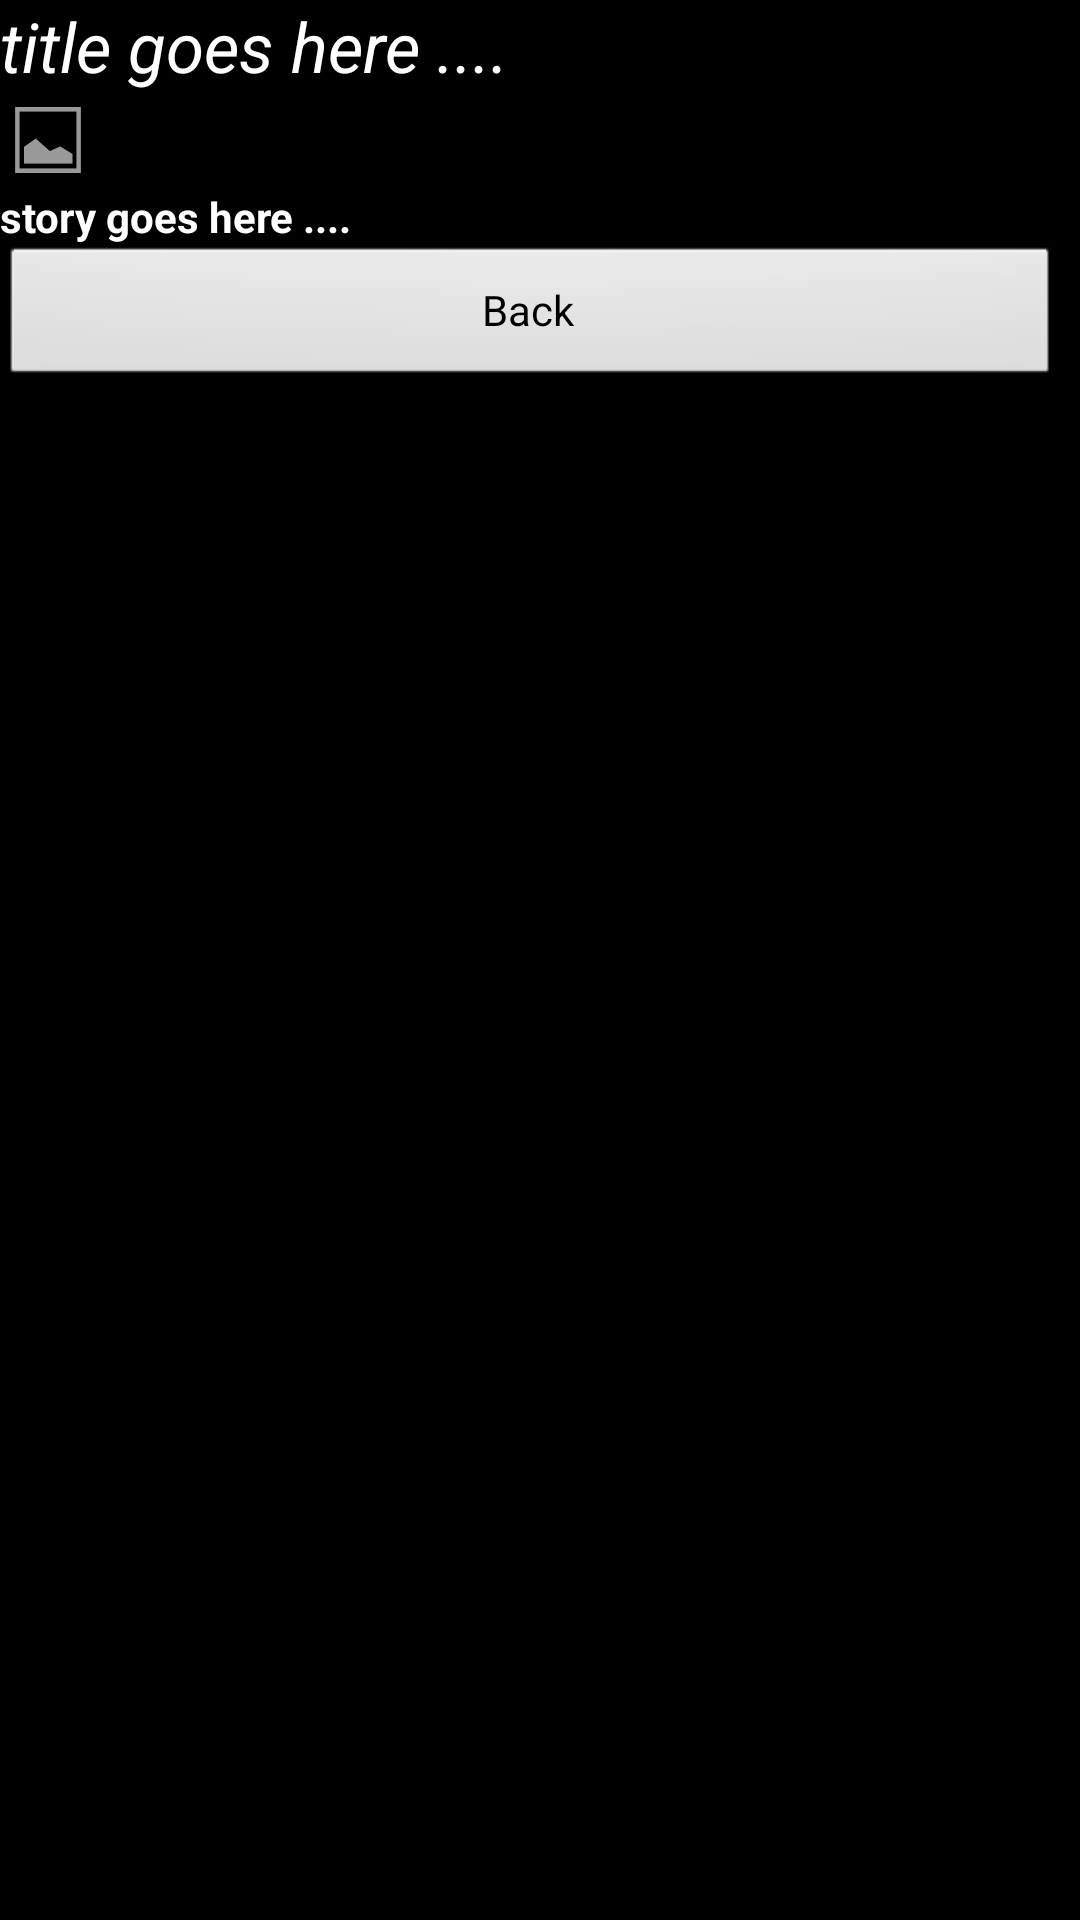

Icon click points for this 1080px x 1920px phone screenshot, format point (x, y):
gallery: point (48, 140)
